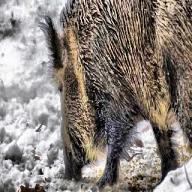boar: (39, 0, 191, 191)
